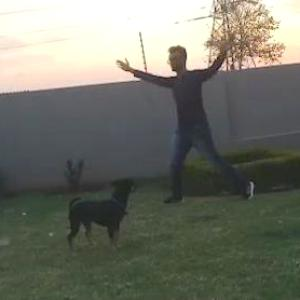takeoff: (114, 34, 243, 198)
